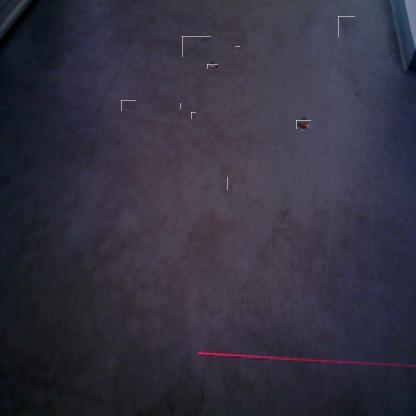dirty: (298, 119, 310, 130), (209, 62, 216, 71)
mark: (184, 34, 209, 59), (338, 16, 355, 37), (274, 208, 292, 226), (121, 100, 136, 111), (227, 176, 238, 190), (181, 103, 188, 110), (191, 112, 196, 119), (190, 70, 195, 76), (235, 46, 240, 52)
